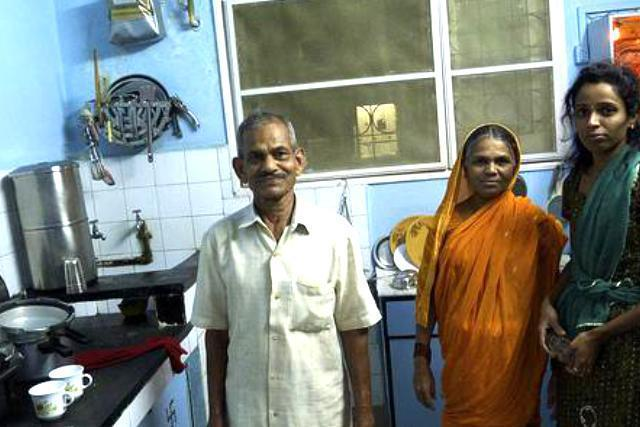Lavaplatos: (32, 213, 207, 297)
